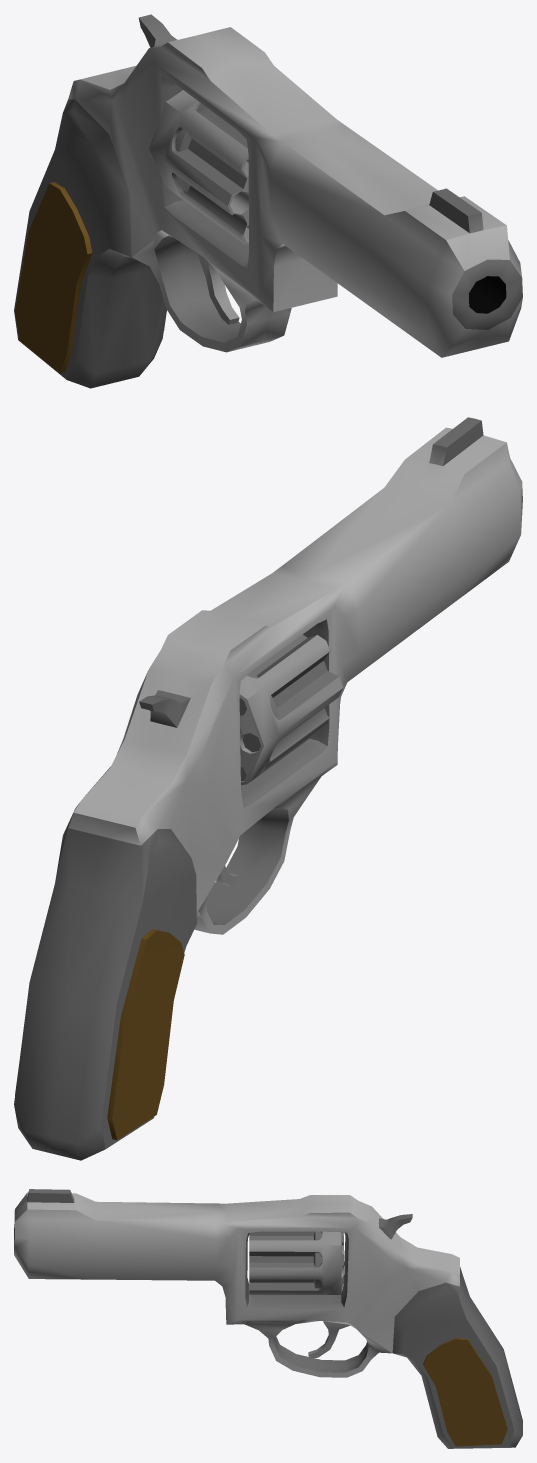
Rendered from 01-Compact-pistol.glb.
3 views of the same model, one above another, from view 1: azimuth 30°, elevation 25°; view 2: azimuth 150°, elevation 25°; view 3: azimuth 270°, elevation 25° (orthographic). The views are drawn at different scales.
Parts seen in each view (by area): view 1: Compact pistol; view 2: Compact pistol; view 3: Compact pistol.
Part boxes in pixels (box(x1,y1,x2,y2)): Compact pistol: box(14, 14, 522, 388); Compact pistol: box(14, 417, 522, 1160); Compact pistol: box(14, 1189, 522, 1448).
Bounding box in the file's own units: 0.0473 × 0.1687 × 0.31.
1 material, 1 textured.
